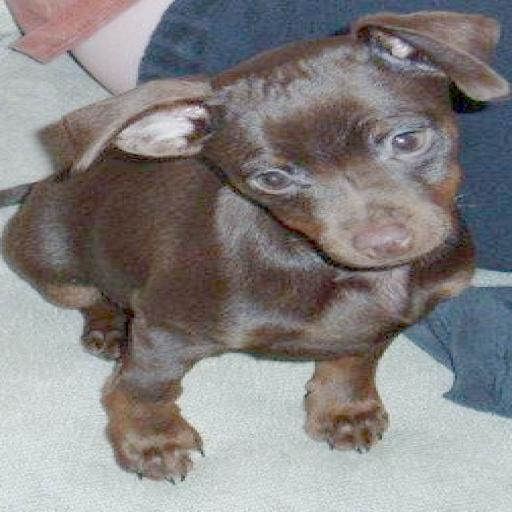dog_face: (114, 30, 475, 280)
